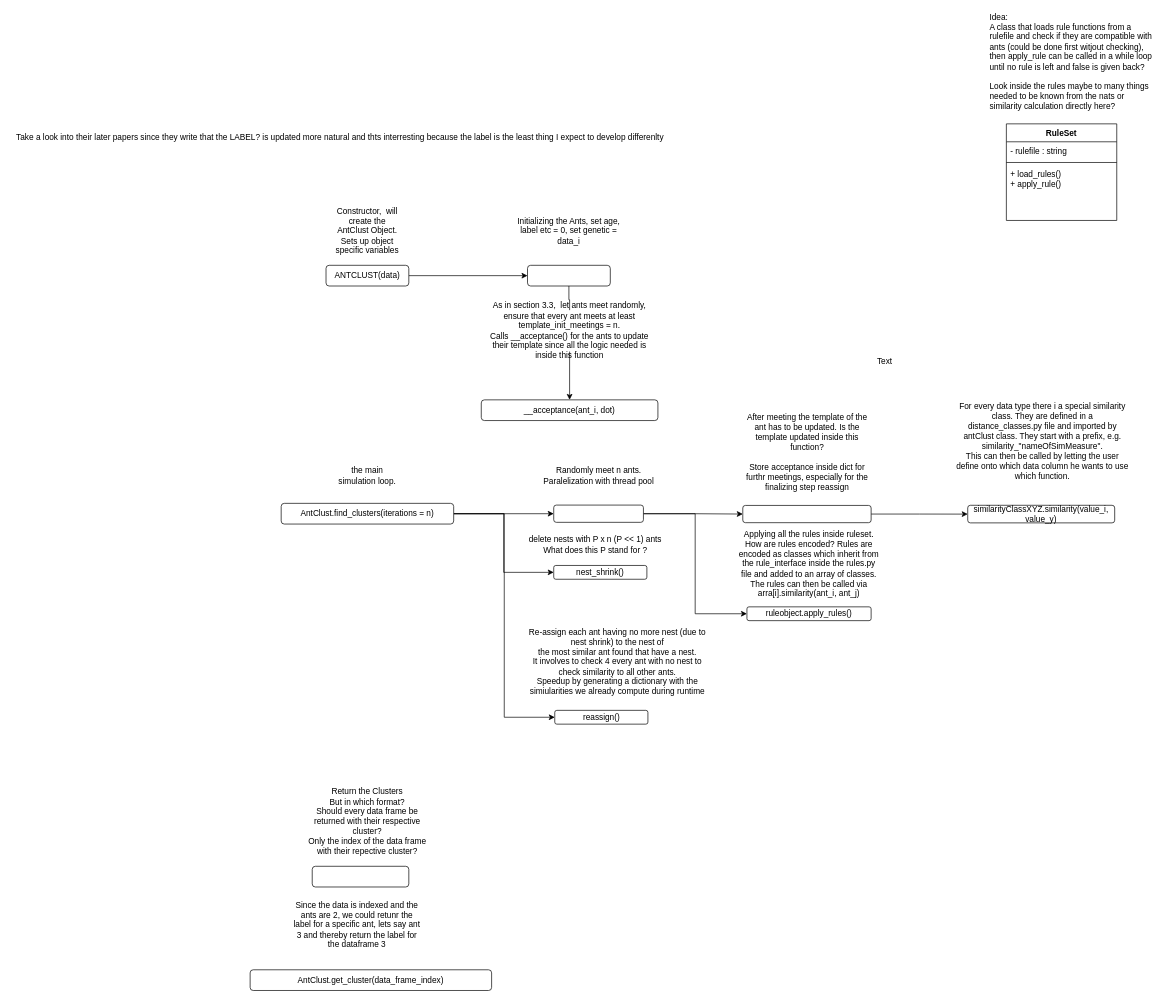
Image size: 1164x1003. Some labels were removed from this diagram. The shapes that lost their labels are listed below. From the top down, each one's box as (x1, y1, x2, y2) in pixels, then its label:
(527, 265, 610, 286): - initialize_ants()
(553, 504, 643, 522): meet(iterations = n)
(742, 505, 871, 523): __acceptance(ant_i, ant_j)
(312, 866, 409, 887): AntClust.get_clusters()
